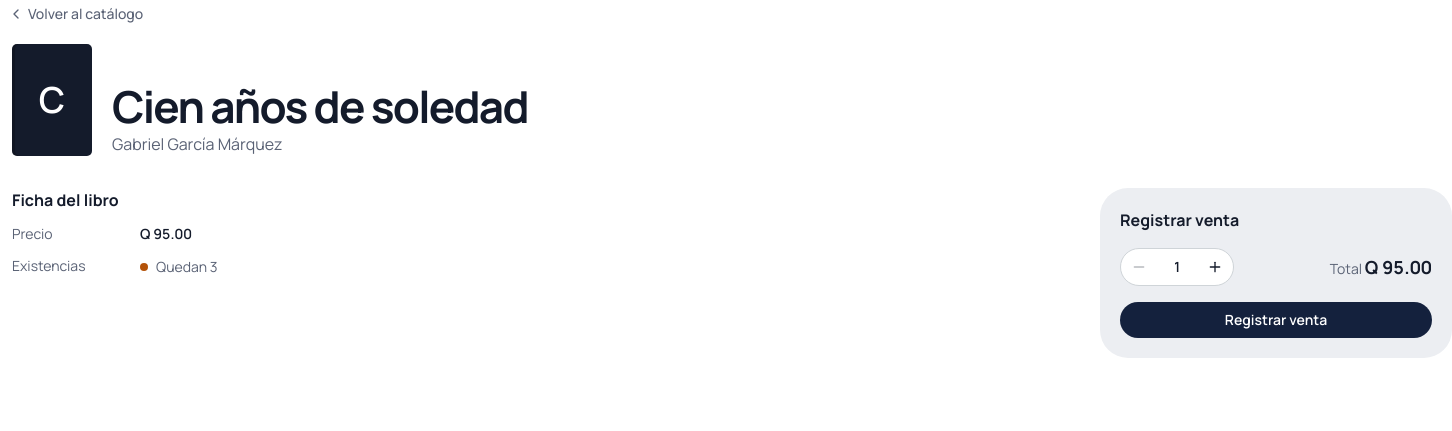
Test: LibroDetallePage › muestra el motivo cuando la venta se rechaza
Expected: the heading "Cien años de soledad" is shown, x1=112 y1=81 x2=528 y2=132
Click the button "Registrar venta".
click(1276, 320)  # box x1=1120 y1=302 x2=1432 y2=338
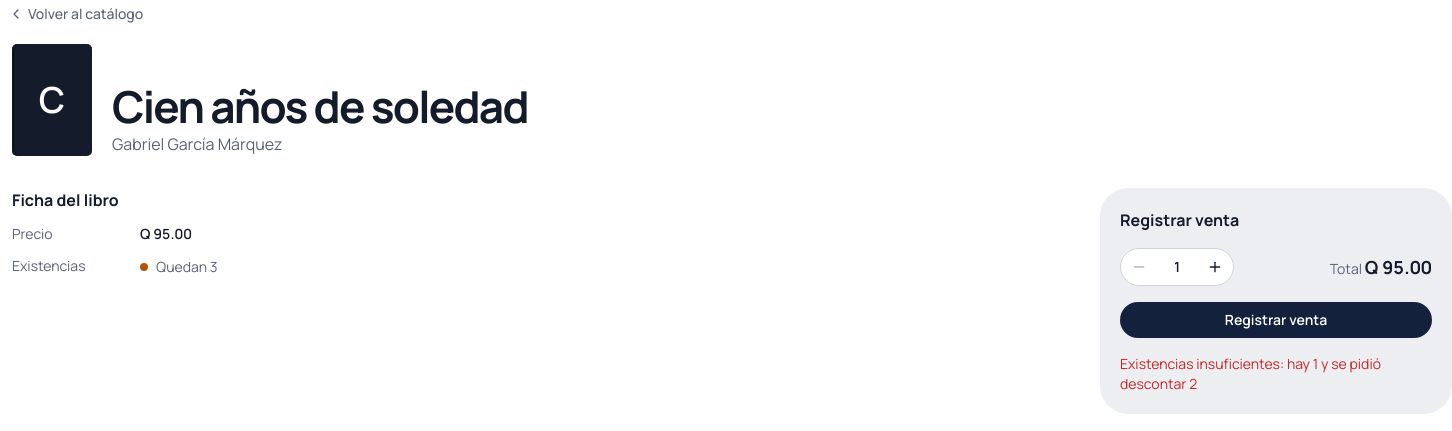
Expected: the message shows "Existencias insuficientes", x1=1120 y1=354 x2=1381 y2=393
